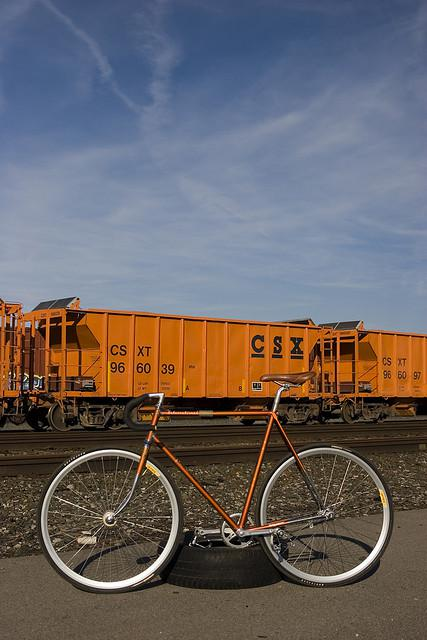Train: (2, 300, 427, 428)
